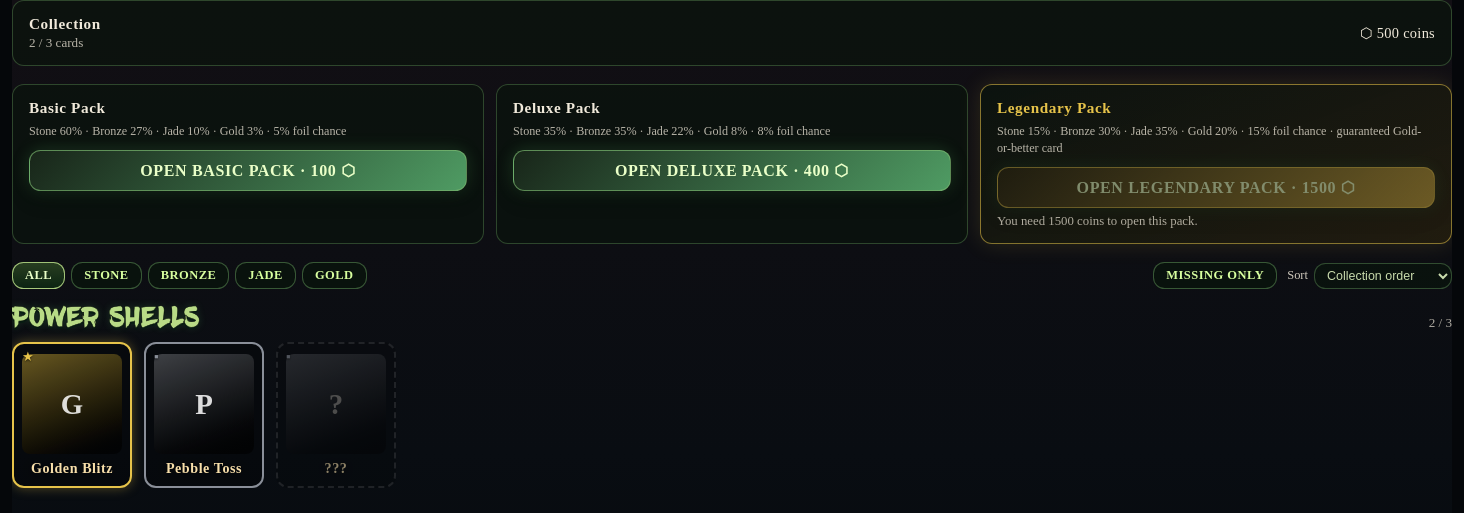
Test: ShellCardsModal filters › should clear the rarity filter when 'All' is reselected
Check: the text "Golden Blitz" is shown, box [31, 460, 113, 476]
Click the button "Gold" at coordinates (334, 276), box [302, 262, 367, 289]
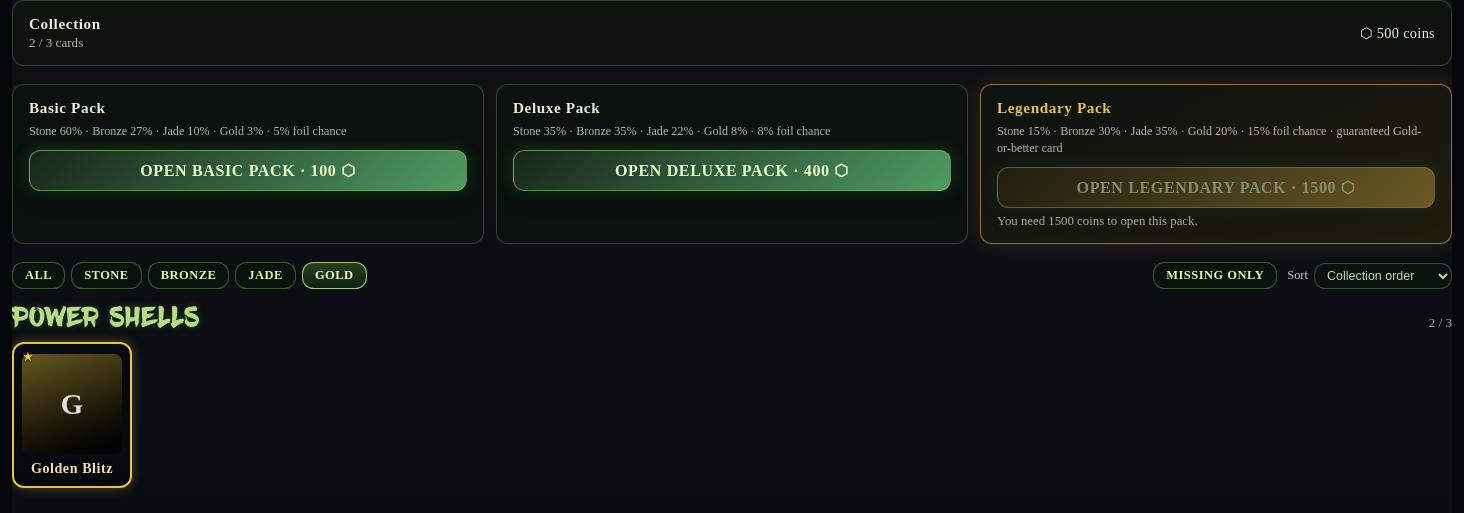
Click the button "All" at coordinates (39, 276), box [12, 262, 65, 289]
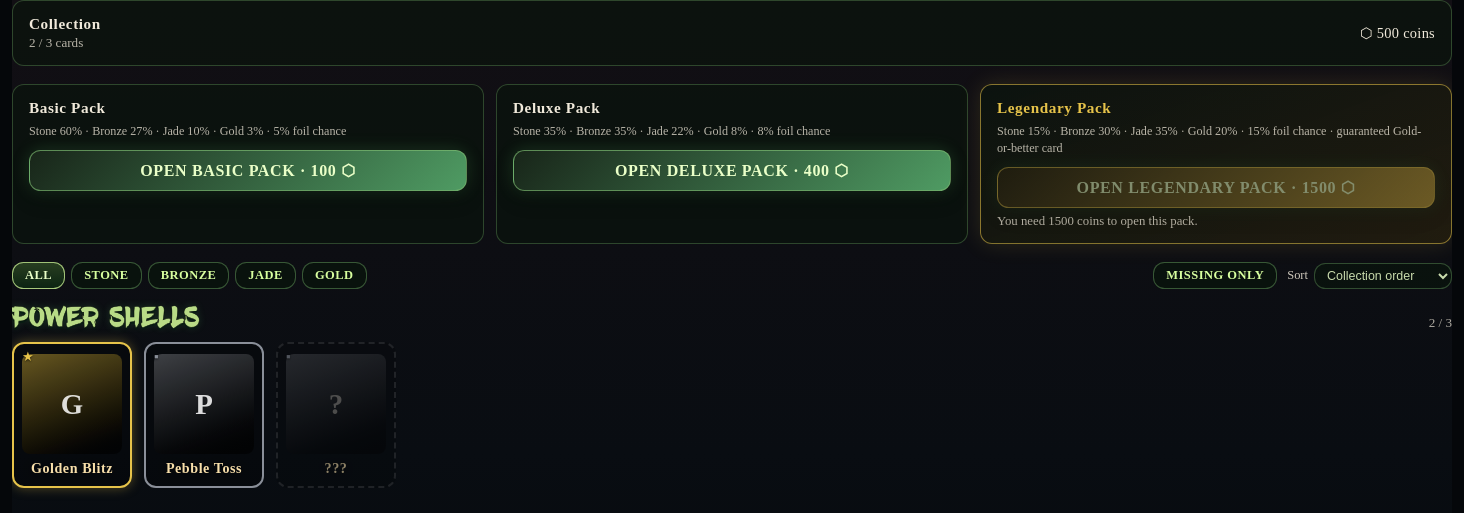
Check: the text "Golden Blitz" is shown, box [31, 460, 113, 476]
Check: the text "Pebble Toss" is shown, box [166, 460, 242, 476]
